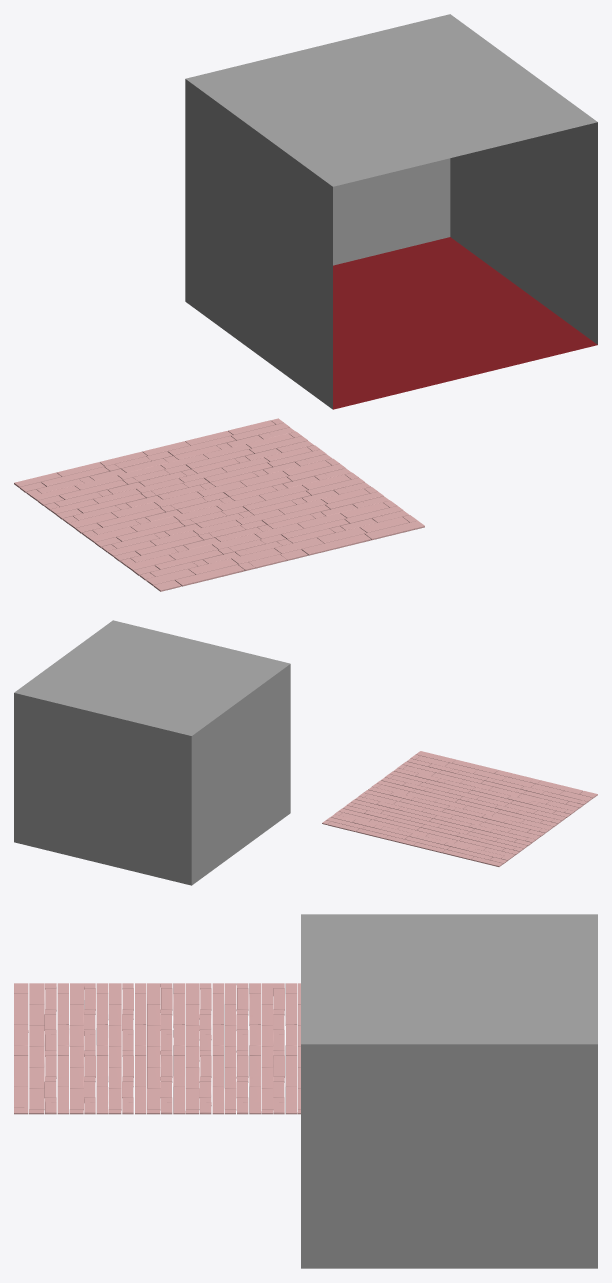
File: Music Room.fbx
3 views of the same model, one above another, from view 1: azimuth 30°, elevation 25°; view 2: azimuth 150°, elevation 25°; view 3: azimuth 270°, elevation 25° (orthographic). The views are drawn at different scales.
Parts seen in each view (by area): view 1: Wall_and_Floor; view 2: Wall_and_Floor; view 3: Wall_and_Floor.
Boxes of the visible parts, bbox=[...] form: Wall_and_Floor: bbox=[185, 14, 597, 409]; Wall_and_Floor: bbox=[14, 620, 290, 885]; Wall_and_Floor: bbox=[301, 914, 597, 1268].
Size of the model in its own units: 54.85 by 20.21 by 47.56.
